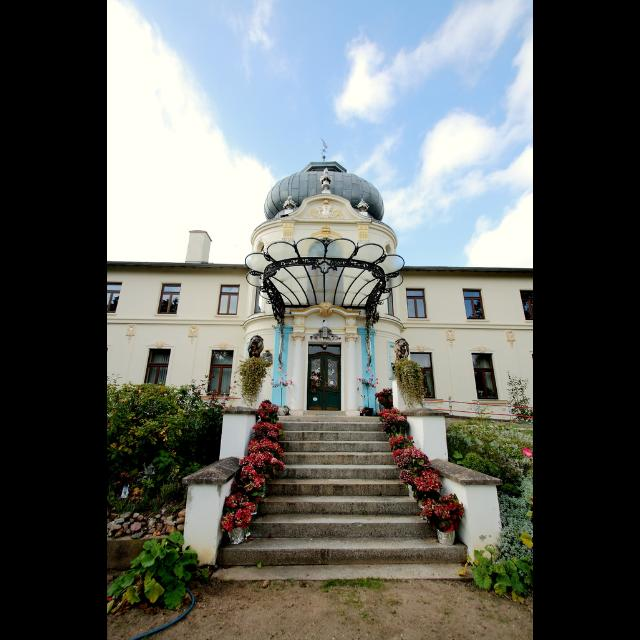Flower: (220, 402, 286, 532), (376, 389, 444, 491), (430, 498, 472, 544), (357, 373, 378, 389), (524, 447, 534, 459), (311, 375, 325, 383)
